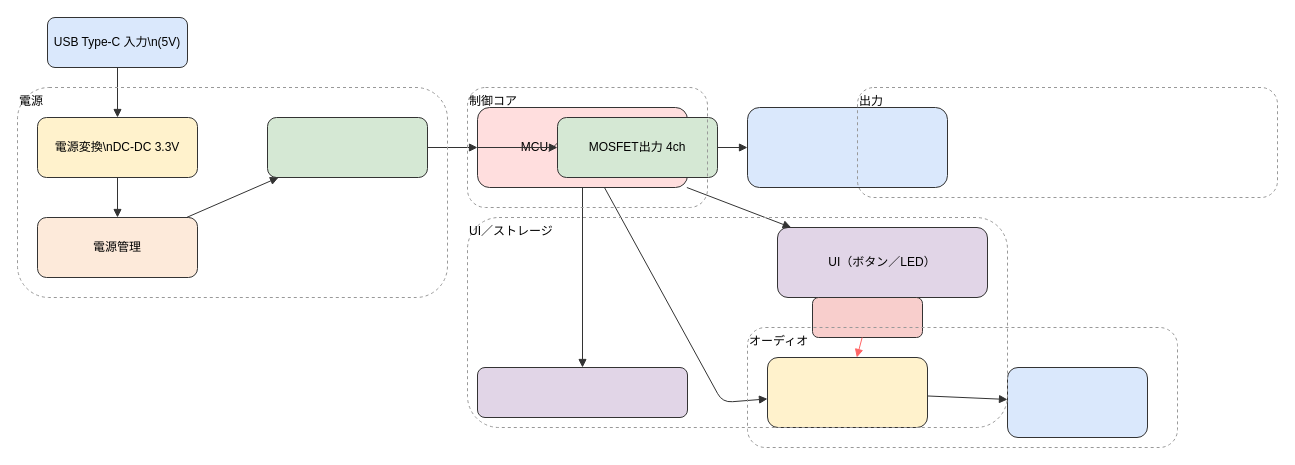
This 1295x465 diagram has some shape labels left out. Each missing label, with the centre of its shape:
"Class‑D アンプ" goes at (x=847, y=392).
"microSD（SPI）" goes at (x=582, y=392).
"USB Type‑C 出力 x4" goes at (x=847, y=147).
"アンプEN制御" goes at (x=867, y=317).
"スピーカー" goes at (x=1077, y=402).
"ロードスイッチ" goes at (x=347, y=147).
